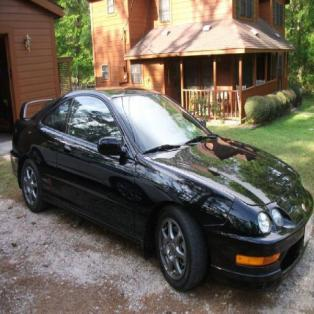Auto: (9, 87, 312, 293)
